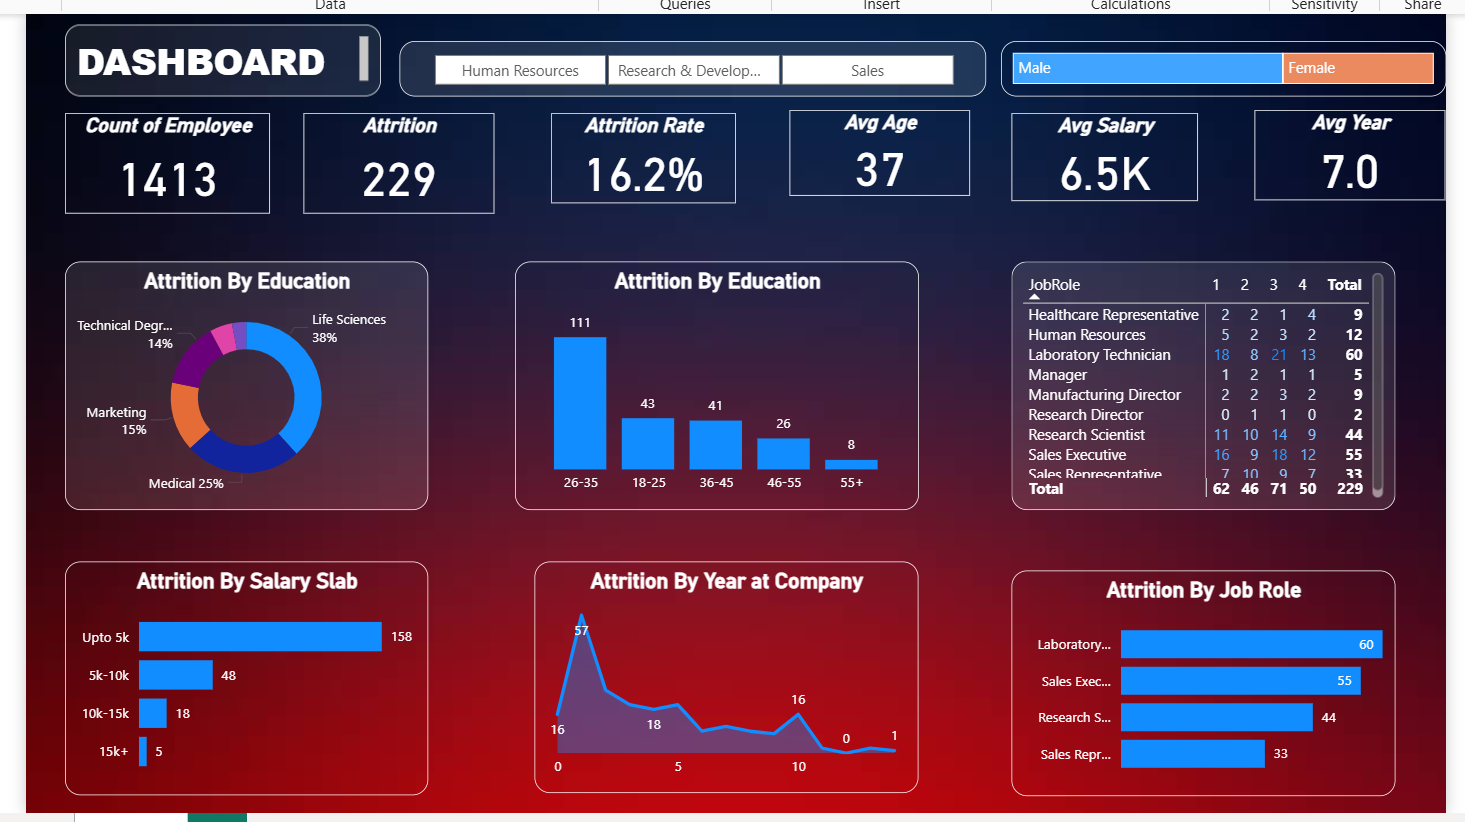

Layout of this report page (visuals, bound fields, positions):
{"tool":"powerbi","page":{"name":"Page 1","canvas":[1280,720],"ordinal":0},"visuals":[{"type":"card","title":"Count of  Employee","fields":{"Values":["CountNonNull(HR_Analytics.EmpID)"]},"box":[35.1,88.7,184.9,90.6],"z":0},{"type":"card","title":"Attrition","fields":{"Values":["Sum(HR_Analytics.Attritioncount)"]},"box":[249.6,88.7,171.9,90.6],"z":1000},{"type":"card","title":"Attrition Rate","fields":{"Values":["HR_Analytics.AttritionRate"]},"box":[473.3,88.7,166.4,81.3],"z":2000},{"type":"card","title":"Avg Age","fields":{"Values":["Avg(HR_Analytics.Age)"]},"box":[687.8,86.9,162.7,77.7],"z":3000},{"type":"card","title":"Avg Salary","fields":{"Values":["Avg(HR_Analytics.MonthlyIncome)"]},"box":[887.4,88.7,168.2,79.5],"z":4000},{"type":"card","title":"Avg Year","fields":{"Values":["Avg(HR_Analytics.YearsAtCompany)"]},"box":[1107.5,86.9,171.9,81.3],"z":5000},{"type":"donutChart","title":" Attrition By Education","fields":{"Category":["HR_Analytics.EducationField"],"Y":["Sum(HR_Analytics.Attritioncount)"]},"box":[35.1,223.7,327.2,223.7],"z":6000},{"type":"columnChart","title":" Attrition By Education","fields":{"Category":["HR_Analytics.AgeGroup"],"Y":["Sum(HR_Analytics.Attritioncount)"]},"box":[440,223.7,364.2,223.7],"z":7000},{"type":"pivotTable","fields":{"Rows":["HR_Analytics.JobRole"],"Columns":["HR_Analytics.JobSatisfaction"],"Values":["Sum(HR_Analytics.Attritioncount)"]},"box":[887.4,223.7,345.7,223.7],"z":7001},{"type":"clusteredBarChart","title":" Attrition By Salary Slab","fields":{"Category":["HR_Analytics.SalarySlab"],"Y":["Sum(HR_Analytics.Attritioncount)"]},"box":[35.1,493.6,327.2,210.8],"z":7002},{"type":"clusteredBarChart","title":" Attrition By Job Role","fields":{"Category":["HR_Analytics.JobRole"],"Y":["Sum(HR_Analytics.Attritioncount)"]},"box":[887.4,501,345.7,203.4],"z":7003},{"type":"areaChart","title":" Attrition By Year at Company","fields":{"Category":["HR_Analytics.YearsAtCompany"],"Y":["Sum(HR_Analytics.Attritioncount)"]},"box":[458.5,493.6,345.7,208.9],"z":7004},{"type":"treemap","title":" Attrition By Education","fields":{"Group":["HR_Analytics.Gender"],"Values":["Sum(HR_Analytics.Attritioncount)"]},"box":[878.2,24,401.2,49.9],"z":7005},{"type":"slicer","fields":{"Values":["HR_Analytics.Department"]},"box":[336.5,24,528.8,49.9],"z":7006},{"type":"textbox","box":[35.1,9.2,284.7,64.7],"z":7007}]}

Visuals, with their boxes on the page's 1280x720 design canvas (x1, y1, x2, y2). These are canvas units, not pixel positions in the 1465x822 screenshot, which may show the page scaled, cropped or inside an application window:
"Count of  Employee" card: l=35, t=89, r=220, b=179
"Attrition" card: l=250, t=89, r=422, b=179
"Attrition Rate" card: l=473, t=89, r=640, b=170
"Avg Age" card: l=688, t=87, r=850, b=165
"Avg Salary" card: l=887, t=89, r=1056, b=168
"Avg Year" card: l=1108, t=87, r=1279, b=168
" Attrition By Education" donutChart: l=35, t=224, r=362, b=447
" Attrition By Education" columnChart: l=440, t=224, r=804, b=447
pivotTable - HR_Analytics.JobRole x HR_Analytics.JobSatisfaction: l=887, t=224, r=1233, b=447
" Attrition By Salary Slab" clusteredBarChart: l=35, t=494, r=362, b=704
" Attrition By Job Role" clusteredBarChart: l=887, t=501, r=1233, b=704
" Attrition By Year at Company" areaChart: l=458, t=494, r=804, b=702
" Attrition By Education" treemap: l=878, t=24, r=1279, b=74
slicer - HR_Analytics.Department: l=336, t=24, r=865, b=74
textbox: l=35, t=9, r=320, b=74
